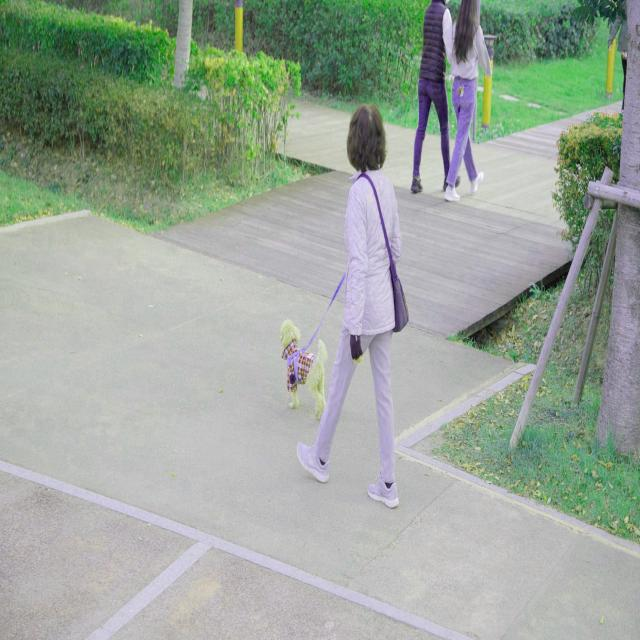Leashed_Dog: (280, 264, 376, 420)
